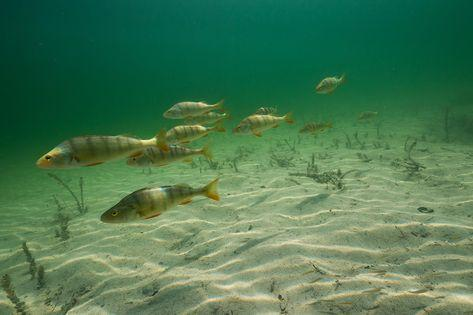fish: (35, 127, 169, 170), (99, 176, 221, 223), (126, 142, 213, 168), (231, 112, 294, 138), (166, 119, 226, 145), (163, 100, 225, 117), (314, 72, 346, 95), (298, 118, 335, 135), (253, 106, 281, 115), (358, 110, 377, 120)
